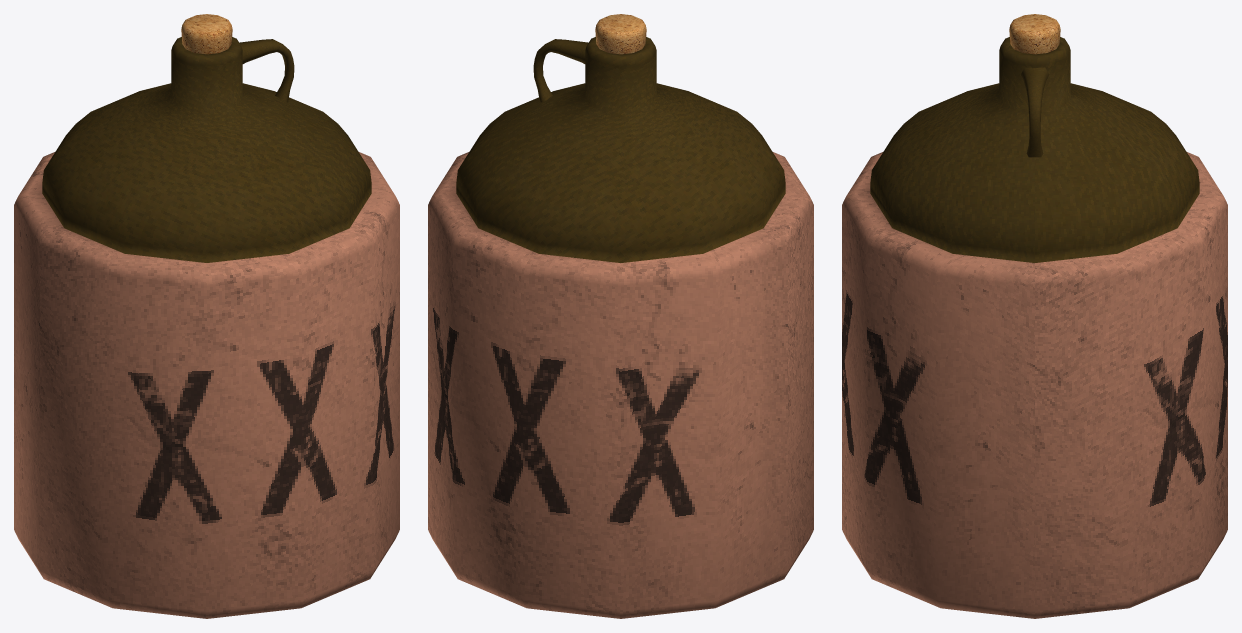
The model's file is Moonshine.glb.
3 views of the same model, side by side, from view 1: azimuth 30°, elevation 25°; view 2: azimuth 150°, elevation 25°; view 3: azimuth 270°, elevation 25° (orthographic).
Parts seen in each view (by area): view 1: MoonshineBottle, Cork; view 2: MoonshineBottle, Cork; view 3: MoonshineBottle, Cork.
Part boxes in pixels (x1,y1,x2,y2): MoonshineBottle: (14,37,399,618); Cork: (181,14,232,54); MoonshineBottle: (428,37,813,618); Cork: (595,14,646,54); MoonshineBottle: (842,37,1227,618); Cork: (1009,14,1060,54).
Bounding box in the file's own units: 0.2265 × 0.3368 × 0.2265.
Materials: 1 (1 with a texture image).
